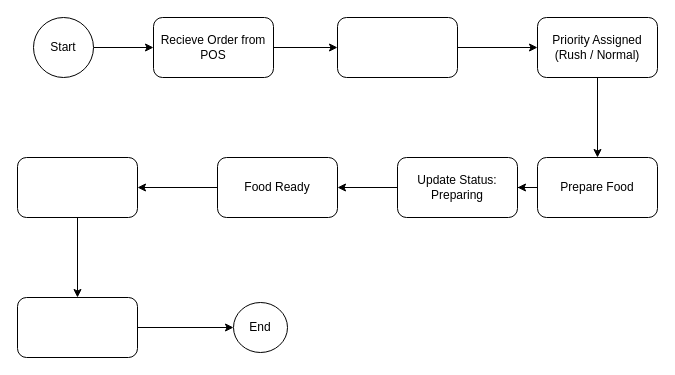
The diagram is 675 pixels wide and 375 high, and some of its shapes have lost their labels. Each missing label, with the centre of its shape:
Nofity POS / Cashier: the point at 77,327
Order Added to Kitchen Queue: the point at 397,47
Update Status: Ready: the point at 77,187
